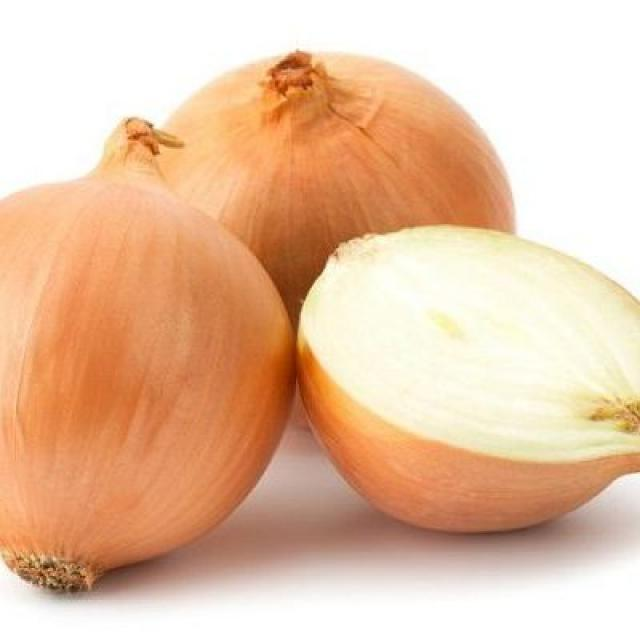Onion: (0, 117, 296, 590), (155, 48, 516, 431), (297, 223, 640, 534)
